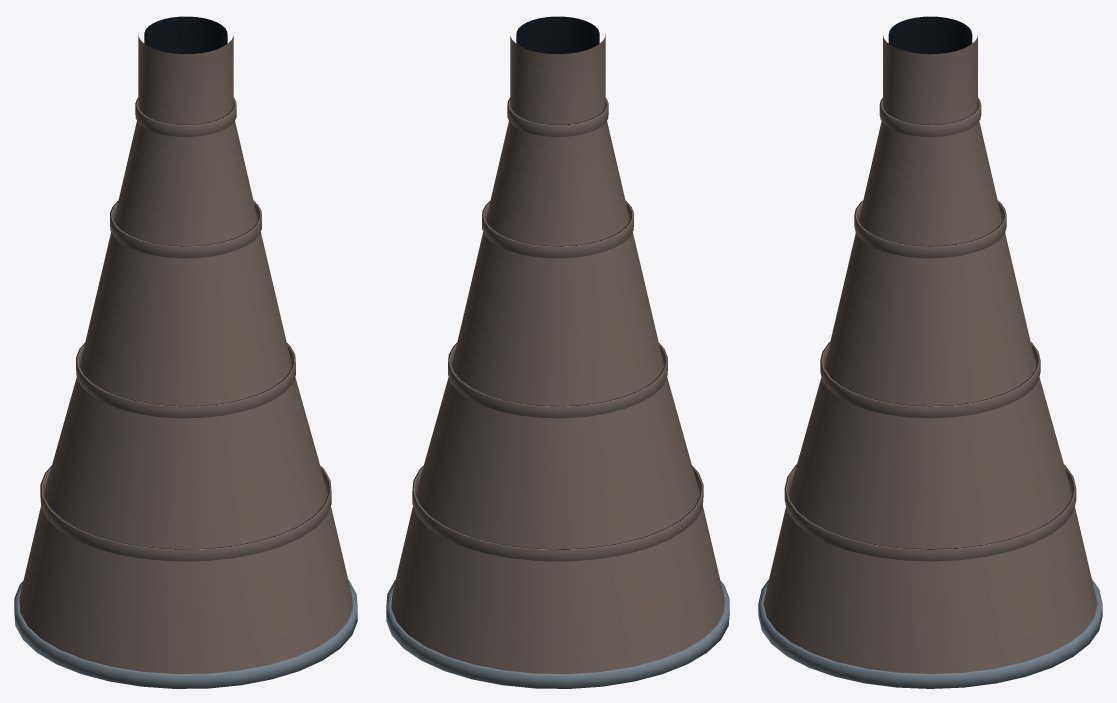
File: titan_centaur.rl10_01.glb
The picture shows the model from 3 angles, left to right: view 1: azimuth 30°, elevation 25°; view 2: azimuth 150°, elevation 25°; view 3: azimuth 270°, elevation 25°; orthographic projection.
Parts seen in each view (by area): view 1: titan_centaur.rl10_01.bell.mesh_Heat-stained_alloy, titan_centaur.rl10_01.bell.mesh_Machined_steel, titan_centaur.rl10_01.bell.mesh_Shadowed_interior; view 2: titan_centaur.rl10_01.bell.mesh_Heat-stained_alloy, titan_centaur.rl10_01.bell.mesh_Machined_steel, titan_centaur.rl10_01.bell.mesh_Shadowed_interior; view 3: titan_centaur.rl10_01.bell.mesh_Heat-stained_alloy, titan_centaur.rl10_01.bell.mesh_Machined_steel, titan_centaur.rl10_01.bell.mesh_Shadowed_interior.
Boxes of the visible parts, bbox=[...] form: titan_centaur.rl10_01.bell.mesh_Heat-stained_alloy: bbox=[19, 33, 352, 673]; titan_centaur.rl10_01.bell.mesh_Machined_steel: bbox=[14, 580, 357, 688]; titan_centaur.rl10_01.bell.mesh_Shadowed_interior: bbox=[144, 16, 227, 54]; titan_centaur.rl10_01.bell.mesh_Heat-stained_alloy: bbox=[391, 33, 724, 673]; titan_centaur.rl10_01.bell.mesh_Machined_steel: bbox=[386, 580, 729, 688]; titan_centaur.rl10_01.bell.mesh_Shadowed_interior: bbox=[516, 16, 599, 54]; titan_centaur.rl10_01.bell.mesh_Heat-stained_alloy: bbox=[763, 35, 1097, 673]; titan_centaur.rl10_01.bell.mesh_Machined_steel: bbox=[758, 579, 1102, 688]; titan_centaur.rl10_01.bell.mesh_Shadowed_interior: bbox=[888, 16, 972, 54].
Bounding box in the file's own units: 1.36 × 2.53 × 1.36.
